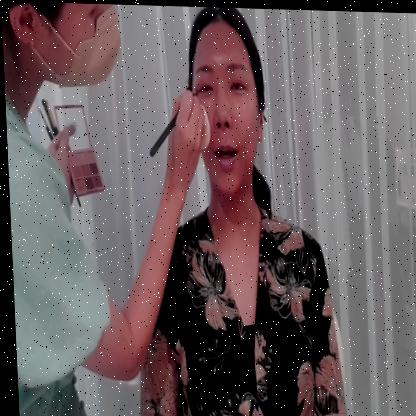streamer: (121, 3, 350, 416), (0, 0, 213, 416)
